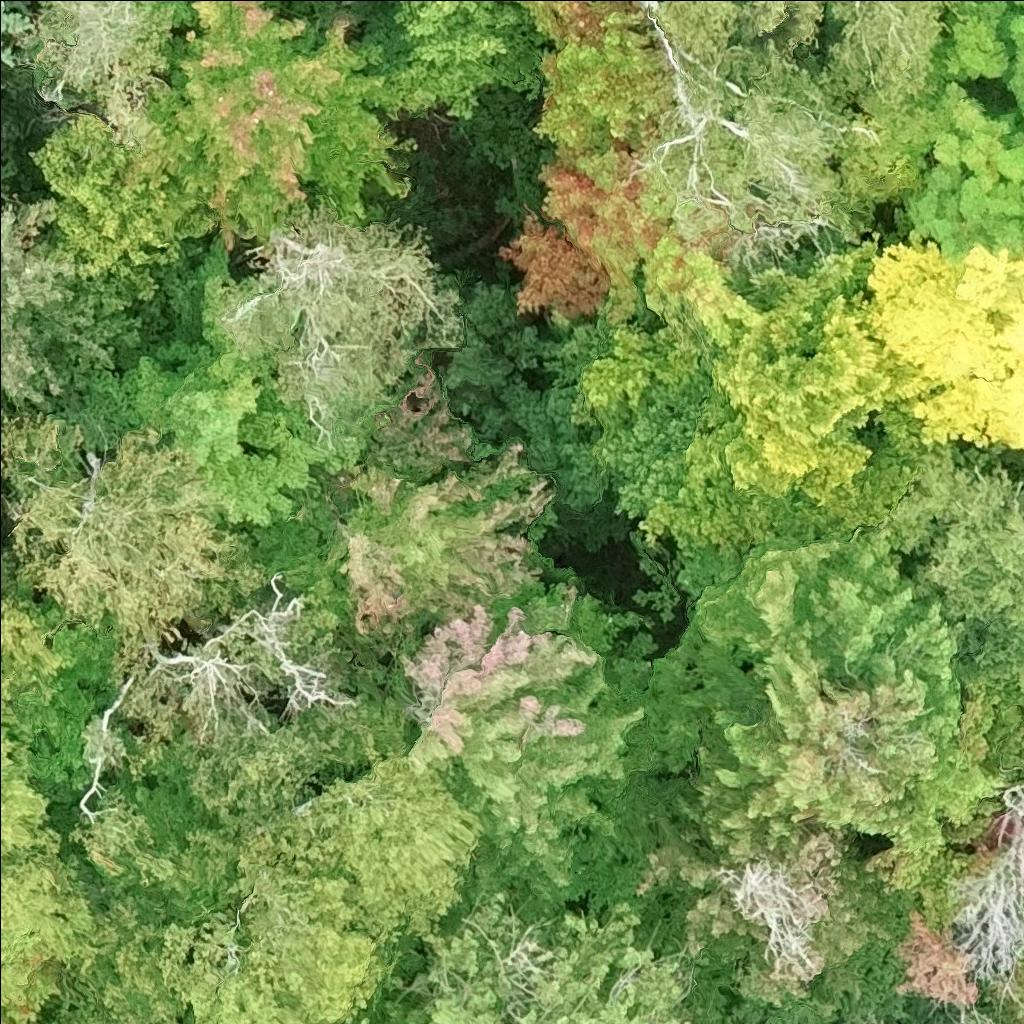crown: (627, 522, 1023, 896), (399, 577, 695, 932), (638, 227, 933, 558), (69, 232, 366, 529), (633, 0, 966, 229), (0, 411, 274, 680), (334, 358, 560, 665), (151, 0, 419, 248), (221, 197, 465, 431), (631, 816, 908, 1021), (495, 141, 753, 353), (163, 798, 402, 1023), (383, 870, 694, 1023), (27, 111, 218, 306), (865, 225, 1023, 456), (883, 446, 1023, 704), (0, 727, 117, 1023), (312, 751, 489, 940), (897, 0, 1023, 253), (511, 0, 671, 159), (368, 0, 547, 122), (81, 880, 185, 1023), (0, 570, 68, 753), (38, 980, 110, 1023), (349, 987, 429, 1023), (0, 0, 39, 69), (166, 0, 199, 36), (0, 402, 10, 434), (877, 1020, 887, 1023), (0, 383, 2, 396), (918, 1021, 924, 1023)
